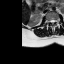CCS_normal: (51, 18, 53, 26)
LFS_normal: (55, 17, 57, 24)
LLS_normal: (53, 17, 55, 24)
RFS_normal: (48, 17, 49, 24)
RLS_normal: (49, 18, 51, 25)
